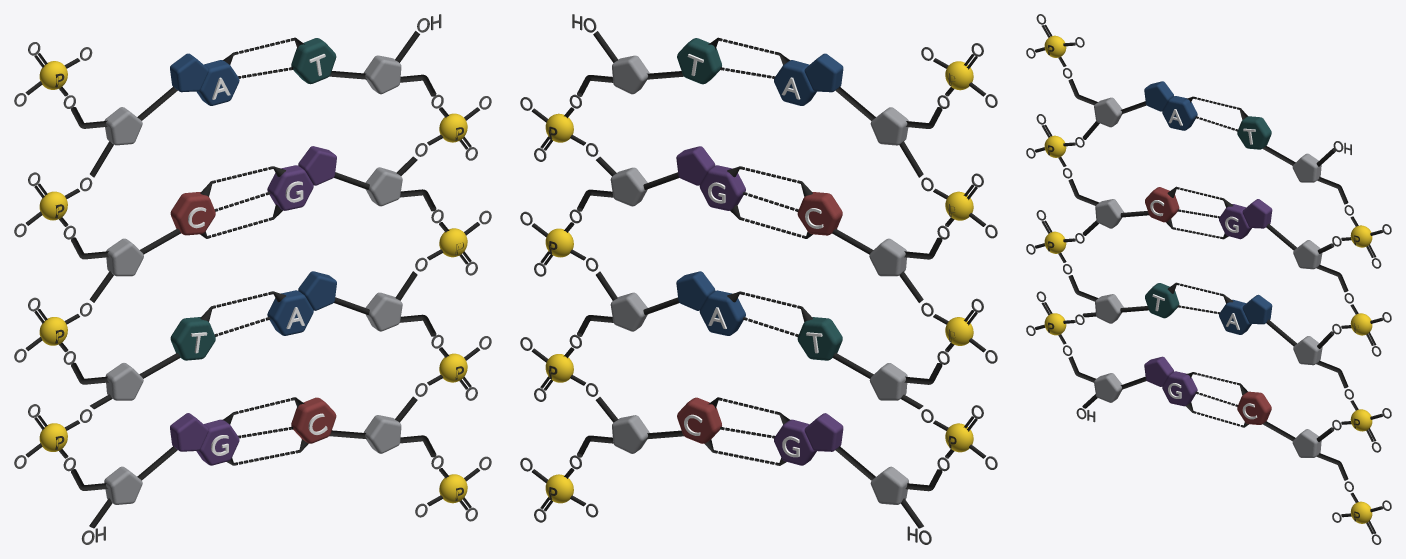
The model's file is dna_nucleotide.glb.
3 views of the same model, side by side, from view 1: azimuth 30°, elevation 25°; view 2: azimuth 150°, elevation 25°; view 3: azimuth 330°, elevation 25° (orthographic). The views are drawn at different scales.
Visible parts, largest first — view 1: Circle.004, Cylinder.009, Sphere, Circle.019, Circle.013, Text.032, Cylinder.008, Circle.016, Circle.003, Text.035; view 2: Cylinder.009, Circle.004, Sphere, Circle.019, Circle.013, Text.032, Cylinder.008, Circle.016, Circle.003, Text.035; view 3: Cylinder.009, Circle.004, Sphere, Circle.019, Circle.013, Text.032, Cylinder.008, Circle.016, Circle.003, Text.035.
Part boxes in pixels (left/top/right/bottom): Circle.004: left=104, top=55, right=402, bottom=504; Cylinder.009: left=25, top=31, right=479, bottom=528; Sphere: left=39, top=61, right=467, bottom=503; Circle.019: left=170, top=53, right=336, bottom=335; Circle.013: left=170, top=146, right=336, bottom=465; Text.032: left=14, top=14, right=491, bottom=544; Cylinder.008: left=200, top=37, right=308, bottom=465; Circle.016: left=170, top=38, right=336, bottom=360; Circle.003: left=170, top=192, right=336, bottom=443; Text.035: left=188, top=54, right=327, bottom=455; Cylinder.009: left=531, top=31, right=985, bottom=528; Circle.004: left=610, top=55, right=908, bottom=504; Sphere: left=545, top=61, right=973, bottom=503; Circle.019: left=676, top=53, right=843, bottom=335; Circle.013: left=676, top=146, right=843, bottom=465; Text.032: left=520, top=14, right=997, bottom=544; Cylinder.008: left=704, top=37, right=812, bottom=465; Circle.016: left=677, top=38, right=842, bottom=360; Circle.003: left=677, top=192, right=842, bottom=443; Text.035: left=684, top=54, right=823, bottom=457; Cylinder.009: left=1035, top=24, right=1383, bottom=534; Circle.004: left=1094, top=97, right=1322, bottom=457; Sphere: left=1044, top=35, right=1372, bottom=523; Circle.019: left=1144, top=81, right=1272, bottom=334; Circle.013: left=1144, top=199, right=1272, bottom=406; Text.032: left=1026, top=14, right=1391, bottom=544; Cylinder.008: left=1166, top=96, right=1248, bottom=427; Circle.016: left=1145, top=116, right=1271, bottom=318; Circle.003: left=1145, top=187, right=1271, bottom=424; Text.035: left=1150, top=109, right=1257, bottom=419.
Bounding box in the file's own units: 26.78 × 31.45 × 1.26.
